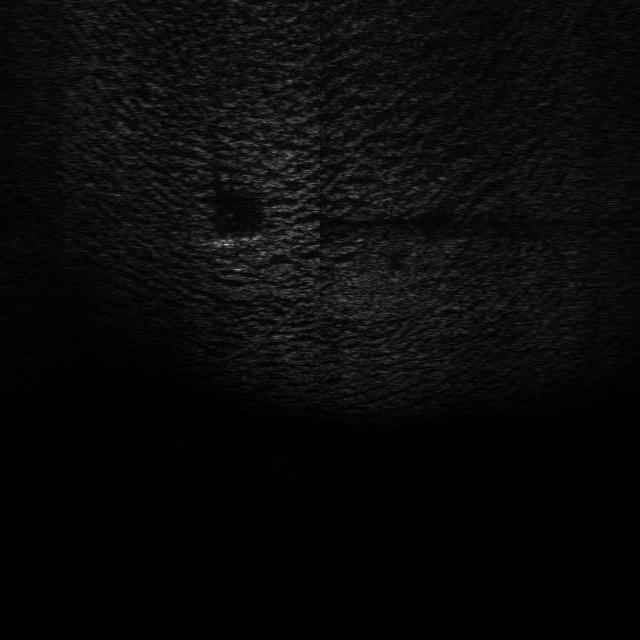plane: (203, 227, 267, 252)
